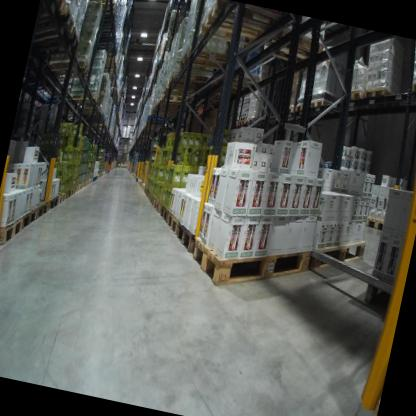forklift: (103, 142, 116, 174)
pallet: (185, 218, 317, 311), (196, 0, 289, 60), (250, 18, 335, 78), (306, 226, 370, 288), (30, 18, 85, 66), (178, 41, 237, 78), (34, 0, 78, 47), (173, 212, 213, 259), (44, 50, 92, 84), (305, 91, 356, 121), (157, 75, 209, 104), (81, 0, 120, 31), (166, 69, 210, 96), (0, 210, 25, 251), (154, 92, 196, 114), (363, 78, 397, 105), (65, 86, 101, 111), (19, 204, 39, 237), (363, 204, 387, 231), (38, 0, 65, 24), (42, 88, 67, 109), (28, 197, 50, 220), (163, 209, 180, 238), (289, 95, 307, 117), (150, 192, 164, 219), (158, 202, 171, 227), (348, 85, 366, 103), (243, 113, 259, 129), (280, 103, 295, 119), (405, 71, 416, 92), (46, 193, 59, 209), (54, 191, 67, 205), (229, 117, 239, 132), (64, 185, 74, 200), (238, 117, 246, 128)
